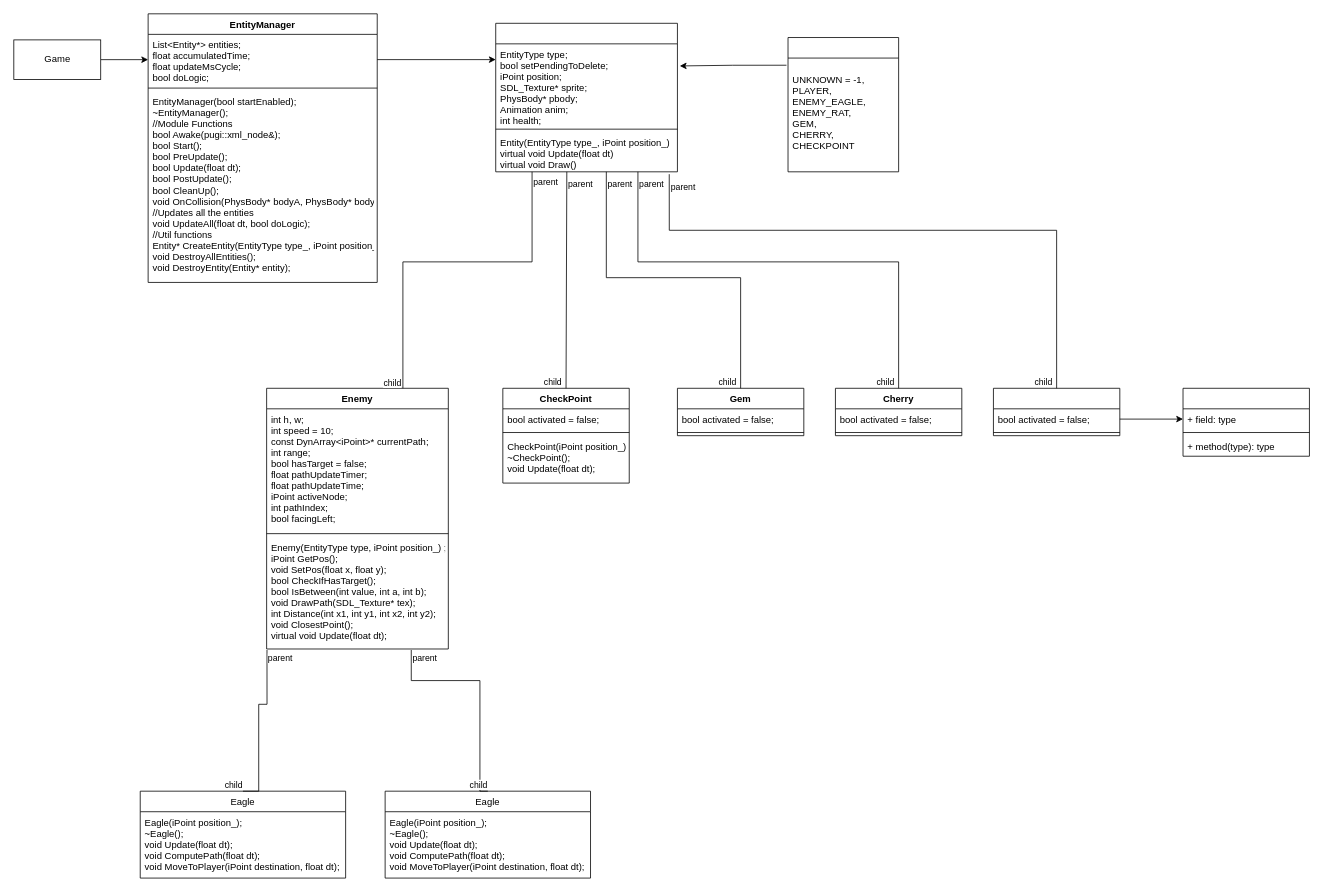
This 1323x894 diagram has some shape labels left out. Each missing label, with the box of its shape:
Abstrac Entity: (495, 23, 677, 172)
EntityType: (787, 37, 899, 172)
Player: (993, 387, 1120, 436)
UI: (1182, 387, 1309, 456)
